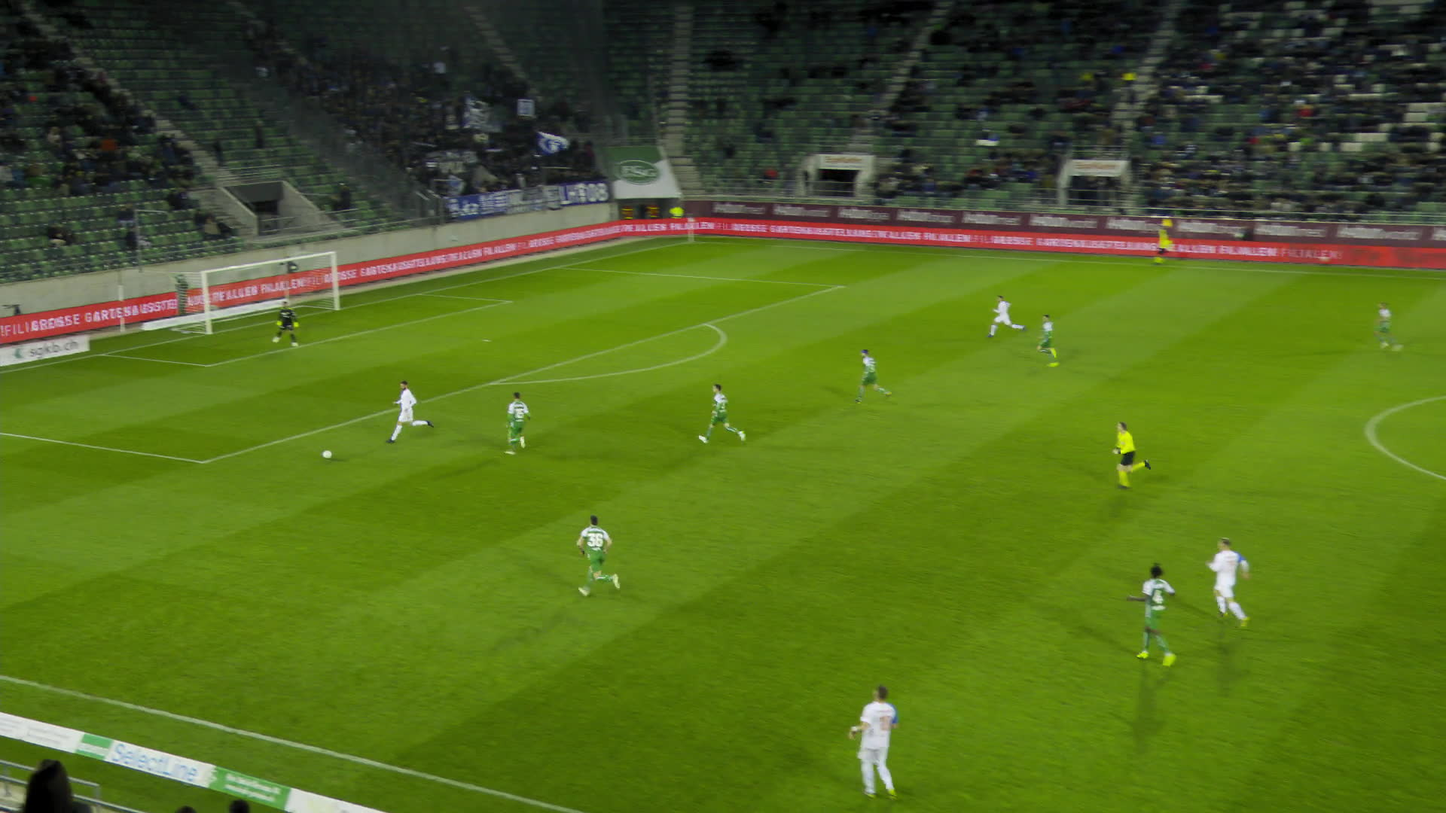ball: (322, 450, 331, 458)
player: (848, 683, 897, 801), (1124, 562, 1176, 665), (1204, 537, 1254, 625), (578, 515, 615, 600), (385, 380, 434, 443), (700, 385, 742, 446), (852, 350, 892, 401), (1367, 302, 1404, 349), (987, 295, 1024, 340), (504, 391, 529, 456), (1032, 312, 1063, 364), (273, 300, 297, 346)
referee: (1107, 420, 1143, 488), (1148, 220, 1169, 264)
